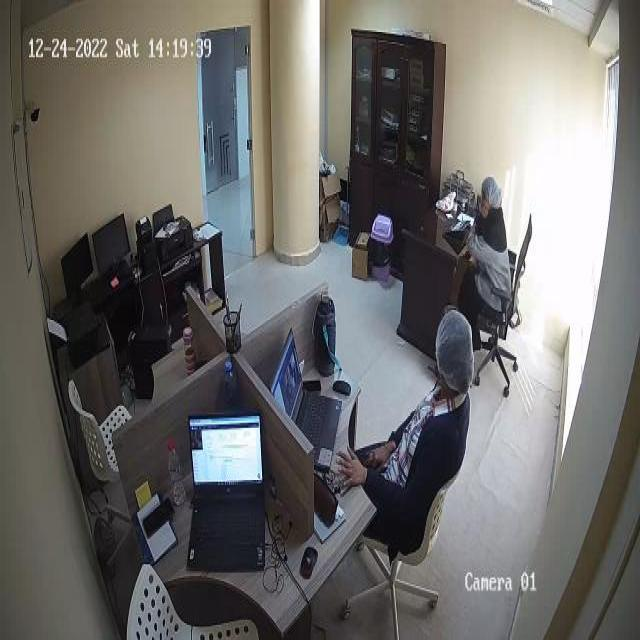hairnet: (438, 312, 475, 391), (483, 176, 505, 207)
